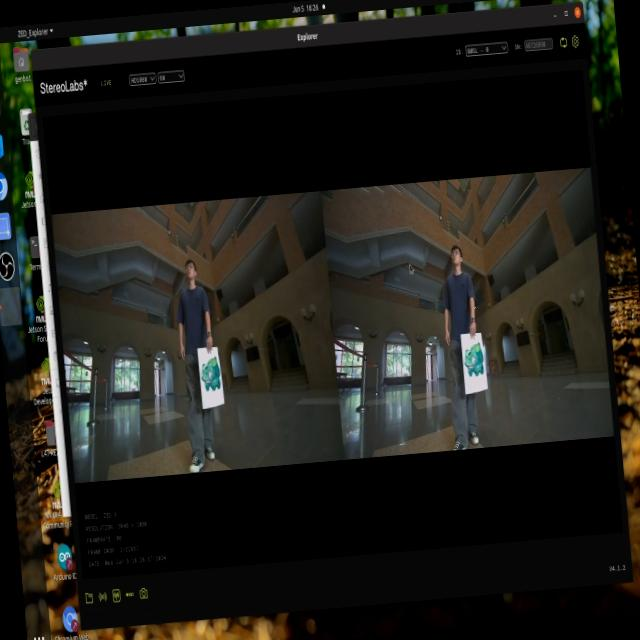green: (186, 343, 226, 412), (465, 333, 489, 382)
